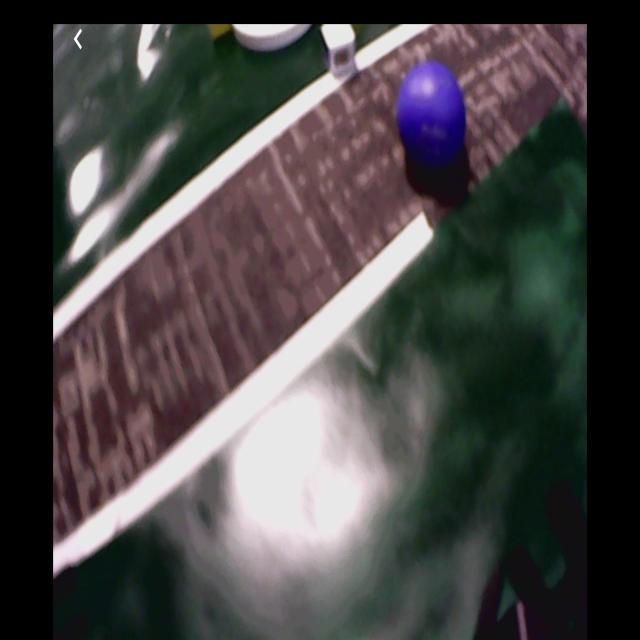ball: (399, 64, 466, 160)
